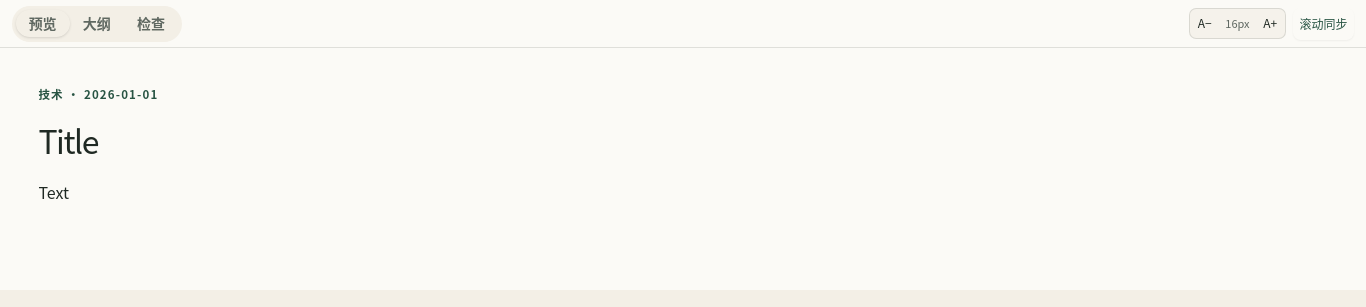
Test: defaults to a smaller 16px reading scale and persists preview adjustments
expect the text "16px" is shown: met, box [1225,15,1250,31]
Click the button named "减小预览字号" at (1205, 24), box [1192,10,1218,37]
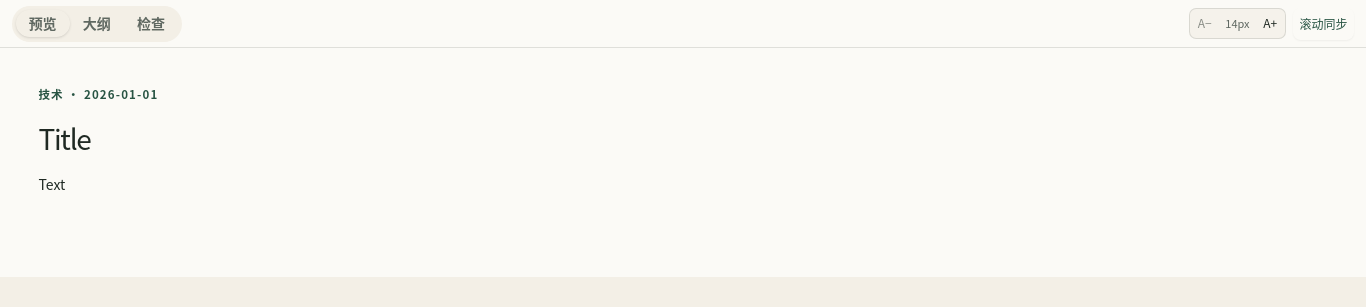
expect the text "14px" is shown: met, box [1225,15,1250,31]
